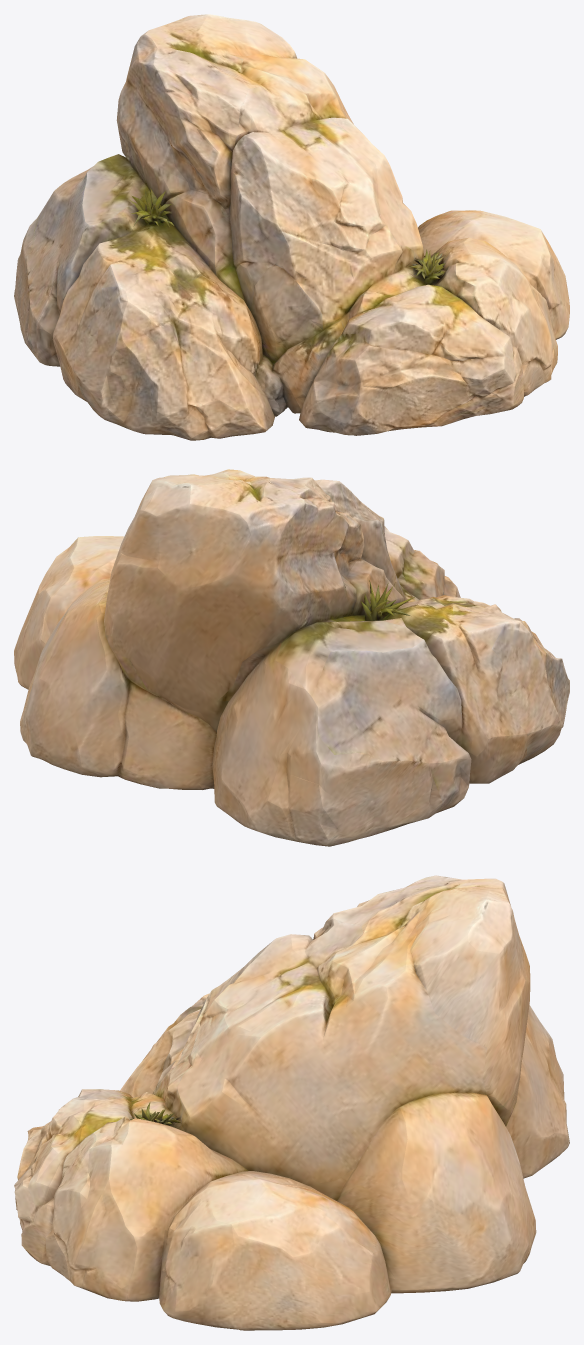
File: coastal-rocks.glb
3 renders of one model, top to bottom at view 1: azimuth 30°, elevation 25°; view 2: azimuth 150°, elevation 25°; view 3: azimuth 270°, elevation 25°, orthographic. The views are drawn at different scales.
Parts seen in each view (by area): view 1: model; view 2: model; view 3: model.
Boxes of the visible parts, x1=… form: model: x1=14, y1=14, x2=569, y2=440; model: x1=14, y1=469, x2=569, y2=846; model: x1=14, y1=875, x2=569, y2=1330.
Size of the model in its own units: 4 by 2.24 by 3.72.
1 material, 1 textured.
